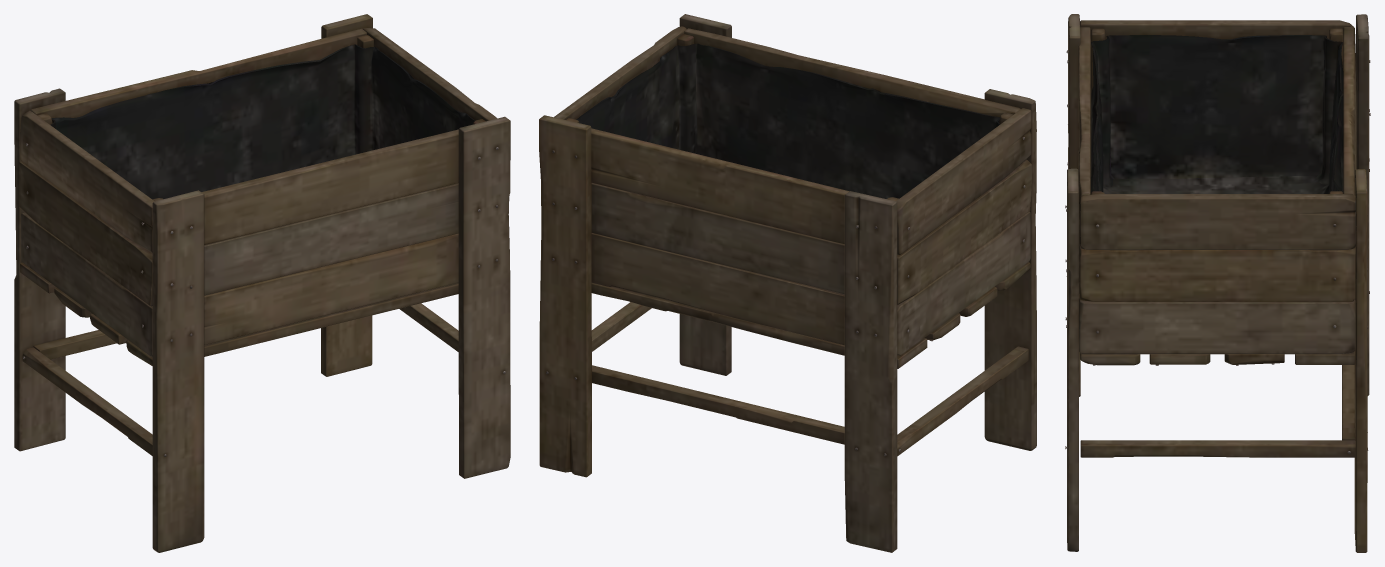
The model's file is planter_box_03.glb.
3 views of the same model, side by side, from view 1: azimuth 30°, elevation 25°; view 2: azimuth 150°, elevation 25°; view 3: azimuth 270°, elevation 25° (orthographic). The views are drawn at different scales.
Visible parts, largest first — view 1: planter_box_03; view 2: planter_box_03; view 3: planter_box_03.
Boxes of the visible parts, x1,y1,x2,y2 form: planter_box_03: (14,14,510,552); planter_box_03: (539,14,1036,552); planter_box_03: (1065,14,1370,552).
Bounding box in the file's own units: 0.9143 × 0.8552 × 0.6556.
1 material, 1 textured.
